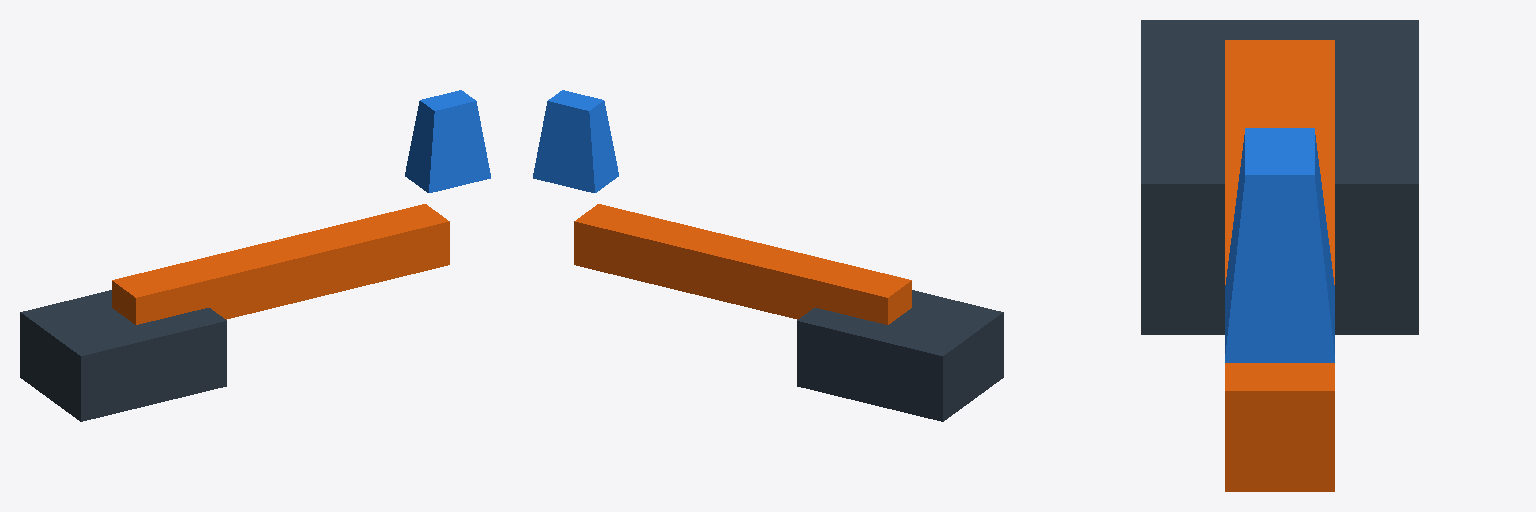
URDF robot description (web_link_demo):
<?xml version="1.0"?>
<!-- Copyright 2026 ros2_web_link contributors; SPDX-License-Identifier: Apache-2.0 -->
<robot name="web_link_demo">
  <material name="base_gray"><color rgba="0.25 0.30 0.35 1"/></material>
  <material name="arm_orange"><color rgba="0.95 0.45 0.10 1"/></material>
  <material name="tool_blue"><color rgba="0.20 0.55 0.95 1"/></material>
  <link name="demo_world"/>
  <link name="demo_base">
    <visual>
      <origin xyz="0 0 0.06"/>
      <geometry><box size="0.28 0.20 0.12"/></geometry>
      <material name="base_gray"/>
    </visual>
  </link>
  <joint name="demo_world_fixed" type="fixed">
    <parent link="demo_world"/>
    <child link="demo_base"/>
    <origin xyz="0 0 0" rpy="0 0 0"/>
  </joint>
  <link name="demo_arm">
    <visual>
      <origin xyz="0.3 0 0"/>
      <geometry><box size="0.6 0.08 0.08"/></geometry>
      <material name="arm_orange"/>
    </visual>
  </link>
  <joint name="demo_joint" type="revolute">
    <parent link="demo_base"/>
    <child link="demo_arm"/>
    <origin xyz="0 0 0.13" rpy="0 0 0"/>
    <axis xyz="0 0 1"/>
    <limit lower="-0.8" upper="0.8" effort="1" velocity="1"/>
  </joint>
  <link name="demo_tool">
    <visual>
      <geometry><mesh filename="package://ros2_web_link/description/tool.stl"/></geometry>
      <material name="tool_blue"/>
    </visual>
  </link>
  <joint name="demo_slide" type="prismatic">
    <parent link="demo_arm"/>
    <child link="demo_tool"/>
    <origin xyz="0.6 0 0" rpy="0 0 0"/>
    <axis xyz="0 0 1"/>
    <limit lower="0.02" upper="0.18" effort="1" velocity="0.2"/>
  </joint>
  <link name="demo_camera_optical"/>
  <joint name="demo_camera_fixed" type="fixed">
    <parent link="demo_base"/>
    <child link="demo_camera_optical"/>
    <origin xyz="-0.2 0 0.5" rpy="-1.5707963267948966 0 -1.5707963267948966"/>
  </joint>
</robot>

--- What the picture shows (computed from the rendered views, not written in the file) ---
3 views of the same robot in one strip: view 1: azimuth 30°, elevation 25°; view 2: azimuth 150°, elevation 25°; view 3: azimuth 270°, elevation 25° (orthographic).
Model web_link_demo with 5 links and 4 joints (1 revolute, 1 prismatic, 2 fixed), rooted at demo_world, posed joints at zero except 1 at the middle of their limits (demo_slide = 0.1).
Visible links, largest first — view 1: demo_arm, demo_base, demo_tool; view 2: demo_arm, demo_base, demo_tool; view 3: demo_base, demo_arm, demo_tool.
Boxes of the visible links, x1,y1,x2,y2 form: demo_arm: (112,204,449,324); demo_base: (20,290,226,421); demo_tool: (405,90,490,192); demo_arm: (574,204,911,324); demo_base: (797,290,1003,421); demo_tool: (533,90,618,192); demo_base: (1141,20,1418,334); demo_arm: (1225,40,1334,491); demo_tool: (1225,128,1334,362).
Size in the robot's own frame: 0.82 by 0.2 by 0.37 metres.
1 mesh visuals loaded from 1 distinct referenced files (1 ASCII STL).
